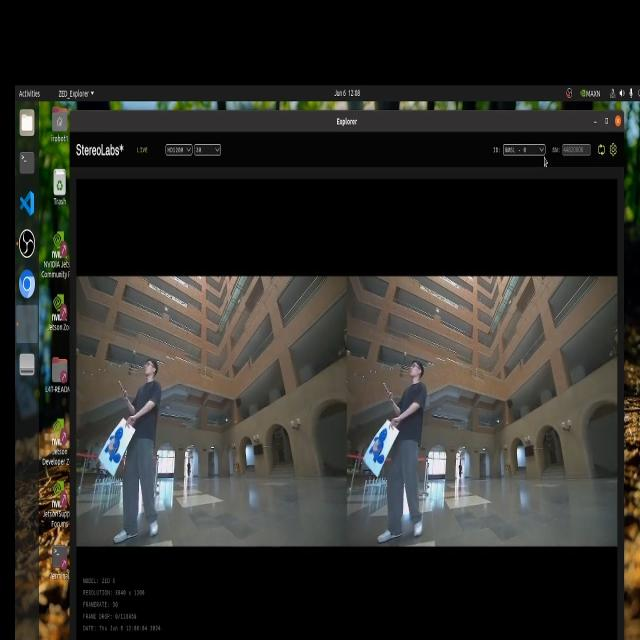blue: (97, 409, 124, 471), (366, 424, 386, 485)
